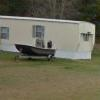Boat: (9, 38, 58, 65)
